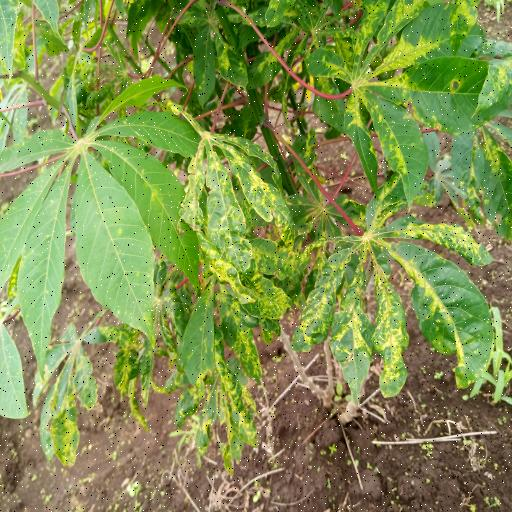Cassava_Mosaic: (305, 188, 496, 402), (344, 0, 495, 191), (178, 285, 278, 458), (34, 322, 153, 464), (183, 130, 295, 266)
